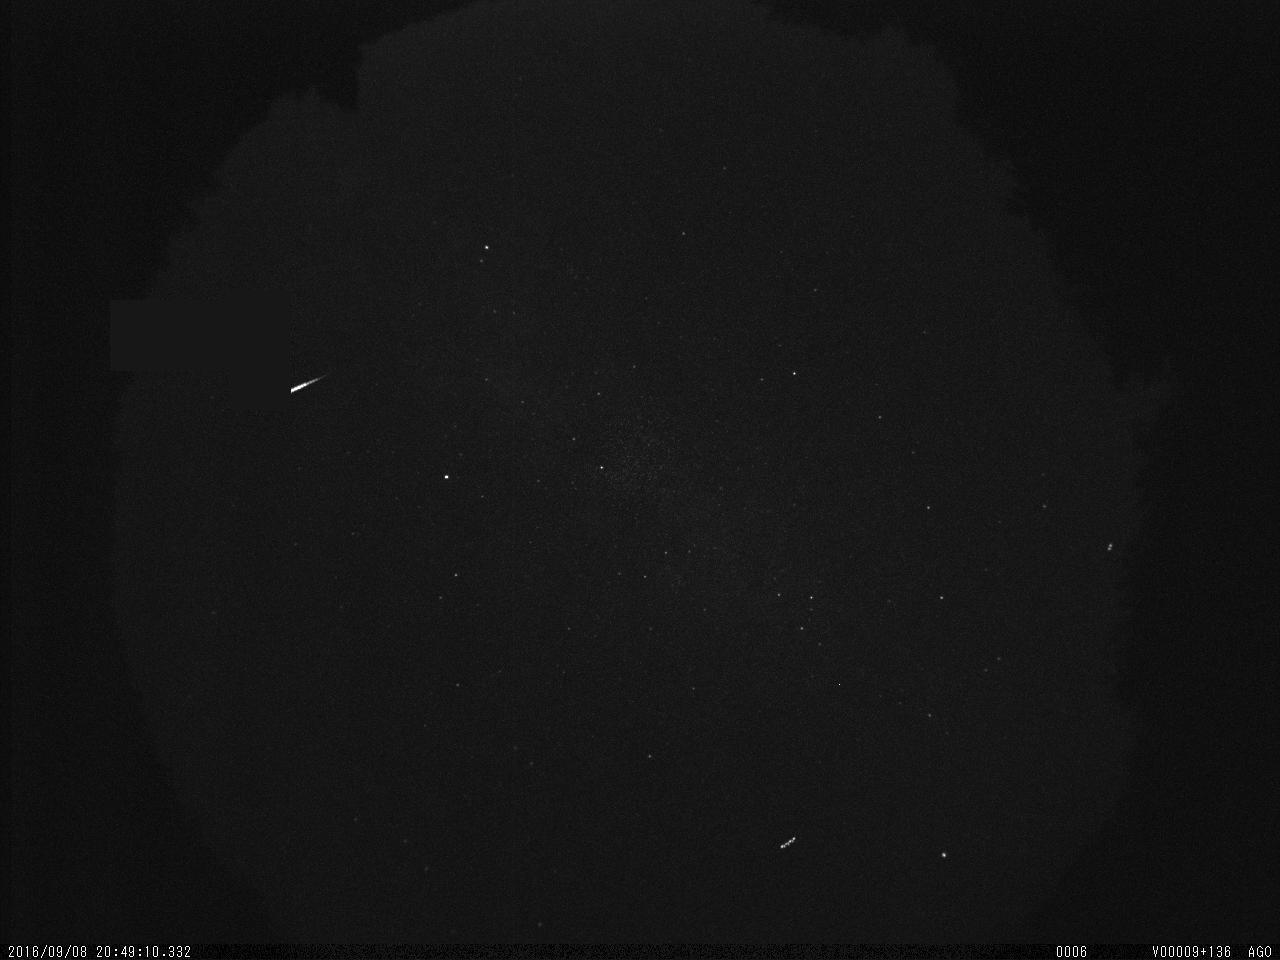meteor: (284, 362, 332, 402)
satelite: (773, 824, 804, 857)
